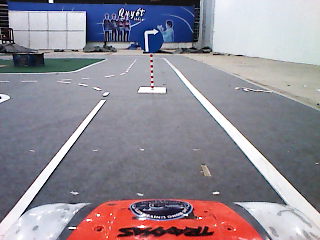turn: (137, 25, 165, 56)
